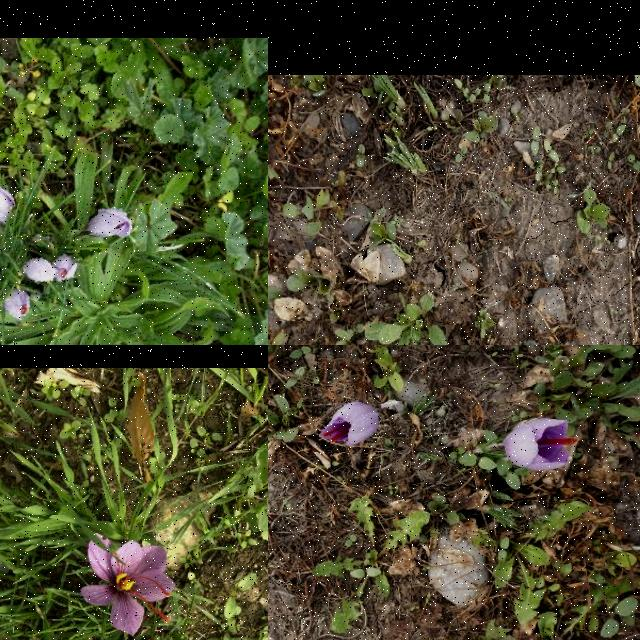flower: (81, 534, 177, 636), (502, 416, 578, 472), (318, 400, 378, 444), (88, 209, 132, 239), (3, 290, 30, 320), (0, 183, 16, 227)
overlap: (24, 255, 78, 283)
